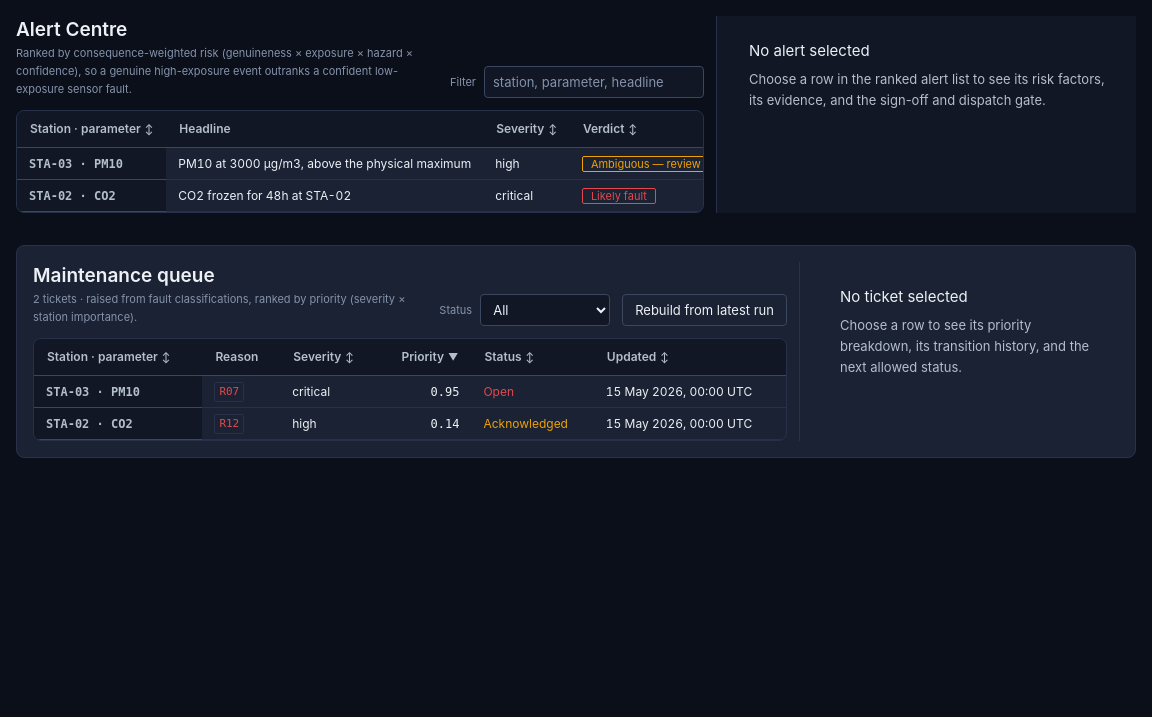
Test case: AlertCentre › opens an alert's detail with its risk factors, never a bare risk number
Click the 1st row with test id "data-table-row".
click(584, 164)  # box left=17, top=148, right=1151, bottom=180
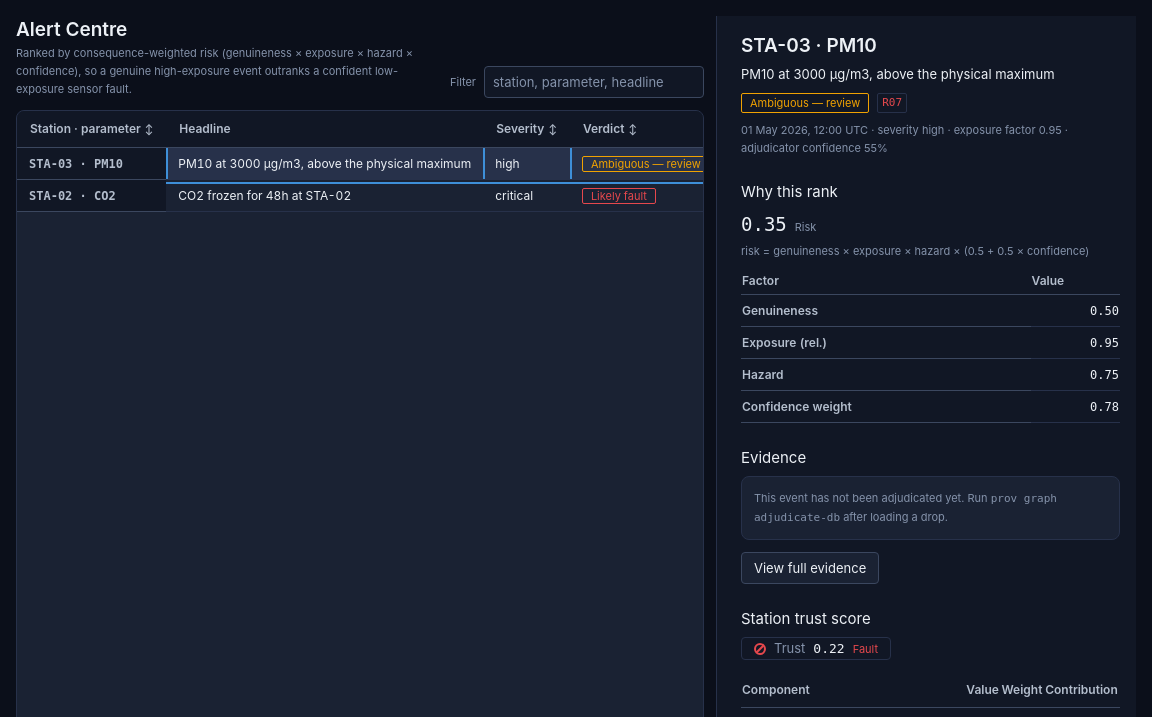
Expected: the column heading "Genuineness" is shown, left=741, top=295, right=1031, bottom=327
Expected: the column heading "Exposure (rel.)" is shown, left=741, top=327, right=1031, bottom=359
Expected: the column heading "Hazard" is shown, left=741, top=359, right=1031, bottom=391
